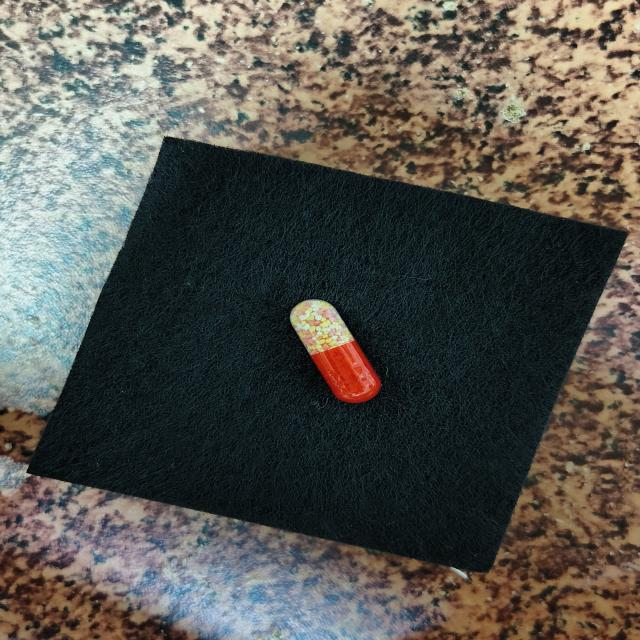Intact Capsule: (290, 299, 381, 403)
